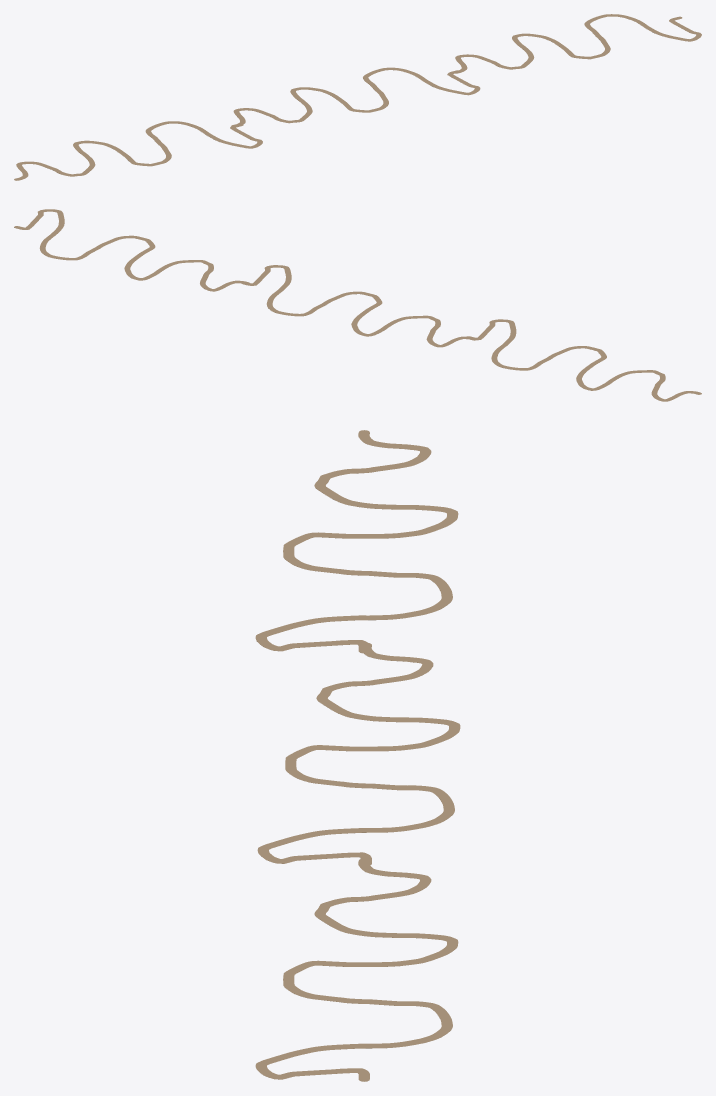
Rendered from Smooth Robo-Snicket (4).glb.
3 renders of one model, top to bottom at view 1: azimuth 30°, elevation 25°; view 2: azimuth 150°, elevation 25°; view 3: azimuth 270°, elevation 25°, orthographic. The views are drawn at different scales.
Visible parts, largest first — view 1: Mesh_Mesh_head_geo.001_lambert2SG.001; view 2: Mesh_Mesh_head_geo.001_lambert2SG.001; view 3: Mesh_Mesh_head_geo.001_lambert2SG.001.
Boxes of the visible parts, x1,y1,x2,y2 form: Mesh_Mesh_head_geo.001_lambert2SG.001: (14, 14, 701, 180); Mesh_Mesh_head_geo.001_lambert2SG.001: (14, 209, 701, 401); Mesh_Mesh_head_geo.001_lambert2SG.001: (255, 430, 460, 1081).
Size of the model in its own units: 0.2739 by 1e-05 by 0.0363.
